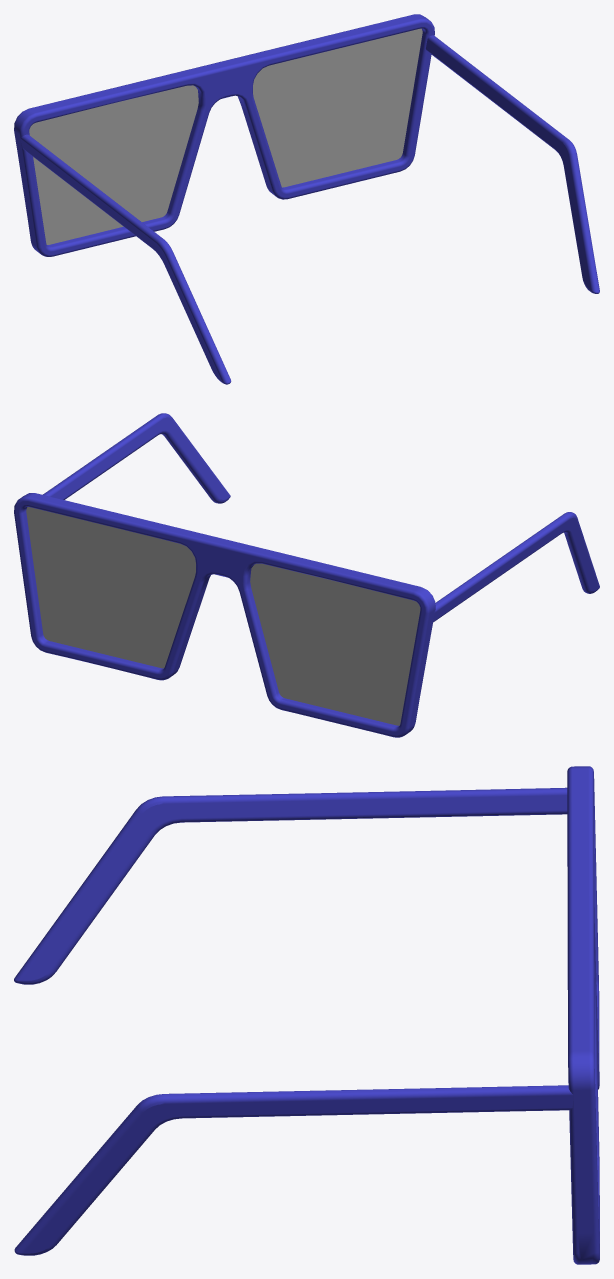
3 views of the same model, one above another, from view 1: azimuth 30°, elevation 25°; view 2: azimuth 150°, elevation 25°; view 3: azimuth 270°, elevation 25° (orthographic). The views are drawn at different scales.
Parts seen in each view (by area): view 1: uploads_files_593613_gözlük:object_3, uploads_files_593613_gözlük:object_6, uploads_files_593613_gözlük:object_1, uploads_files_593613_gözlük:object_5, uploads_files_593613_gözlük:object_4; view 2: uploads_files_593613_gözlük:object_1, uploads_files_593613_gözlük:object_3, uploads_files_593613_gözlük:object_6, uploads_files_593613_gözlük:object_5, uploads_files_593613_gözlük:object_4; view 3: uploads_files_593613_gözlük:object_4, uploads_files_593613_gözlük:object_5, uploads_files_593613_gözlük:object_6.
Part boxes in pixels (left/top/right/bottom): uploads_files_593613_gözlük:object_3: left=253, top=28, right=422, bottom=187; uploads_files_593613_gözlük:object_6: left=14, top=14, right=434, bottom=256; uploads_files_593613_gözlük:object_1: left=29, top=85, right=198, bottom=244; uploads_files_593613_gözlük:object_5: left=426, top=35, right=599, bottom=293; uploads_files_593613_gözlük:object_4: left=20, top=134, right=231, bottom=384; uploads_files_593613_gözlük:object_1: left=250, top=563, right=420, bottom=725; uploads_files_593613_gözlük:object_3: left=26, top=507, right=195, bottom=668; uploads_files_593613_gözlük:object_6: left=14, top=493, right=435, bottom=737; uploads_files_593613_gözlük:object_5: left=43, top=413, right=230, bottom=503; uploads_files_593613_gözlük:object_4: left=433, top=512, right=599, bottom=621; uploads_files_593613_gözlük:object_4: left=14, top=787, right=567, bottom=984; uploads_files_593613_gözlük:object_5: left=14, top=1085, right=573, bottom=1255; uploads_files_593613_gözlük:object_6: left=567, top=766, right=599, bottom=1264.
Size of the model in its own units: 13.12 by 4.52 by 10.67.
